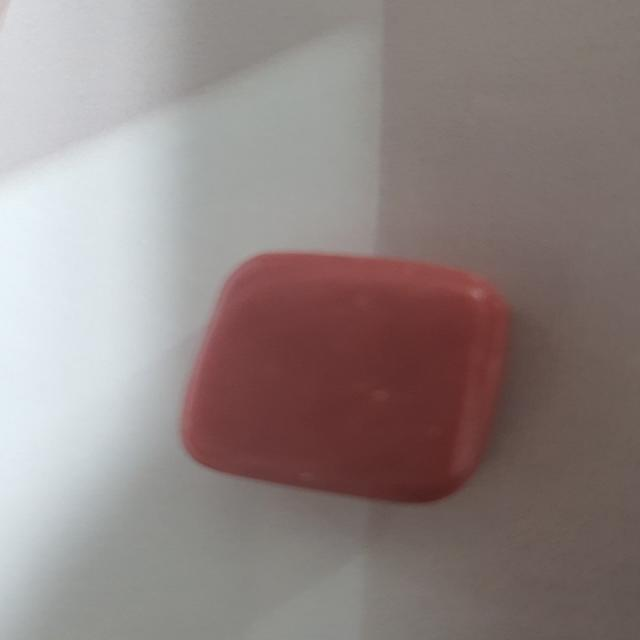pill: (170, 231, 540, 510)
